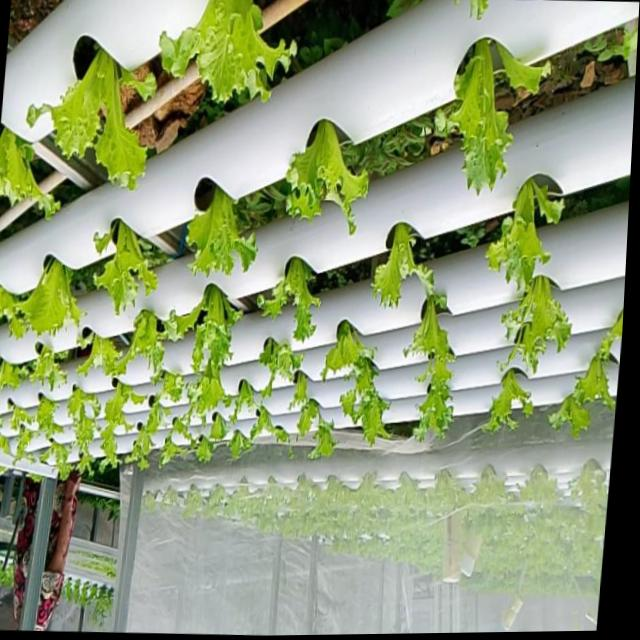Baby: (21, 51, 150, 192), (153, 0, 290, 104), (431, 39, 507, 196), (281, 120, 365, 235), (481, 178, 558, 291), (401, 287, 451, 440), (181, 178, 253, 276), (498, 276, 566, 374), (89, 219, 153, 314), (13, 258, 81, 340), (254, 257, 316, 341), (368, 223, 429, 307), (101, 309, 172, 378), (337, 358, 387, 445), (242, 337, 300, 397), (567, 337, 613, 410), (317, 320, 372, 379), (479, 369, 529, 433), (183, 359, 228, 422), (64, 386, 97, 470), (37, 442, 68, 479), (32, 396, 58, 439), (157, 372, 181, 403), (11, 425, 31, 462), (166, 414, 188, 445)
